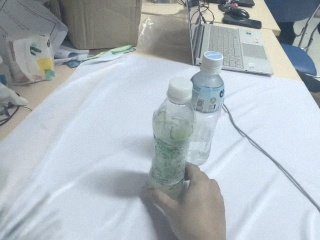bottle: (176, 49, 226, 166), (148, 76, 194, 189), (190, 50, 226, 114)
box: (59, 1, 142, 52)
mouse: (233, 1, 255, 8)
